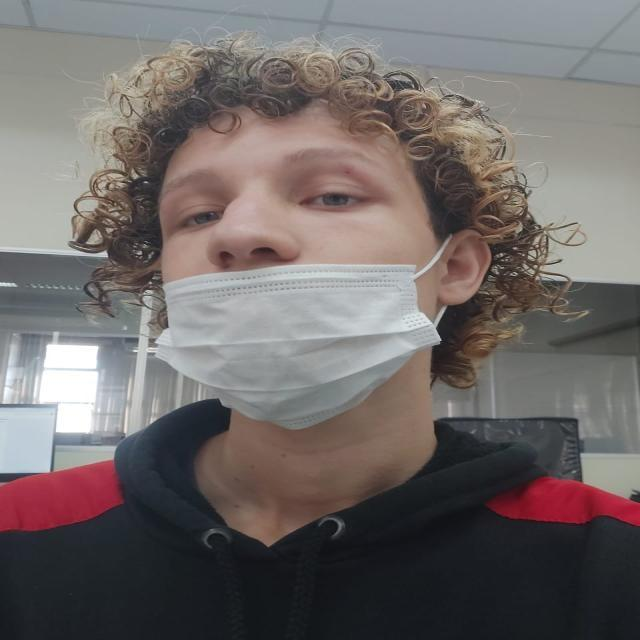hairnet: (134, 126, 454, 402)
